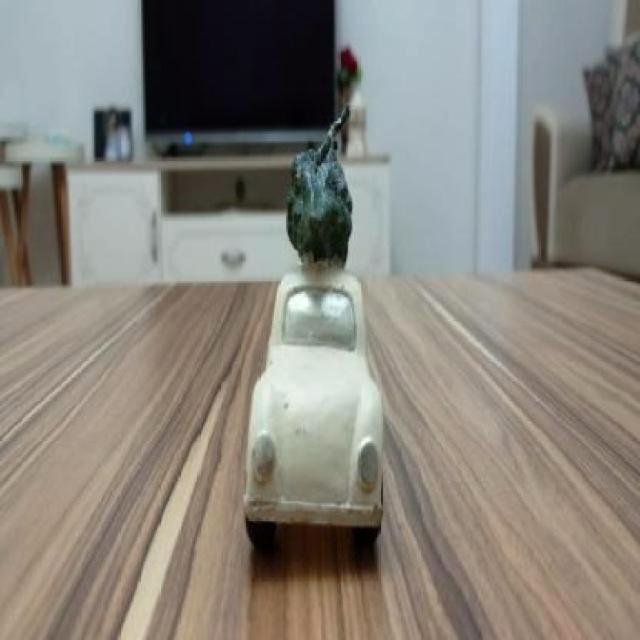car: (249, 273, 385, 553)
